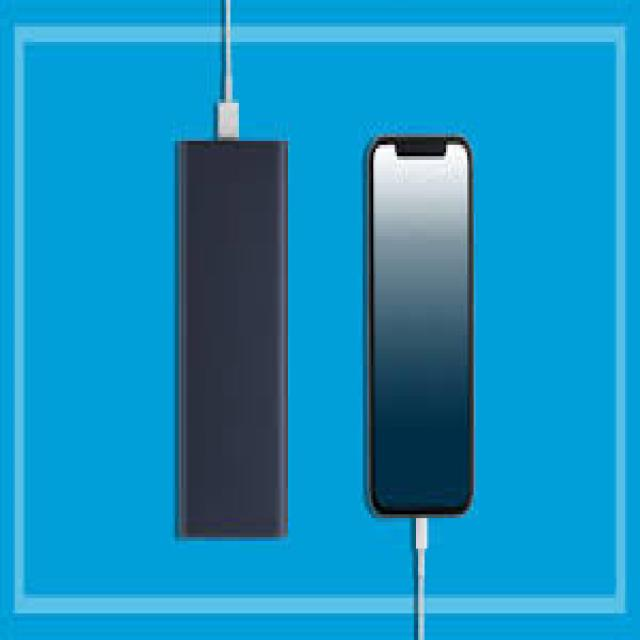portable-charger: (177, 137, 288, 538)
